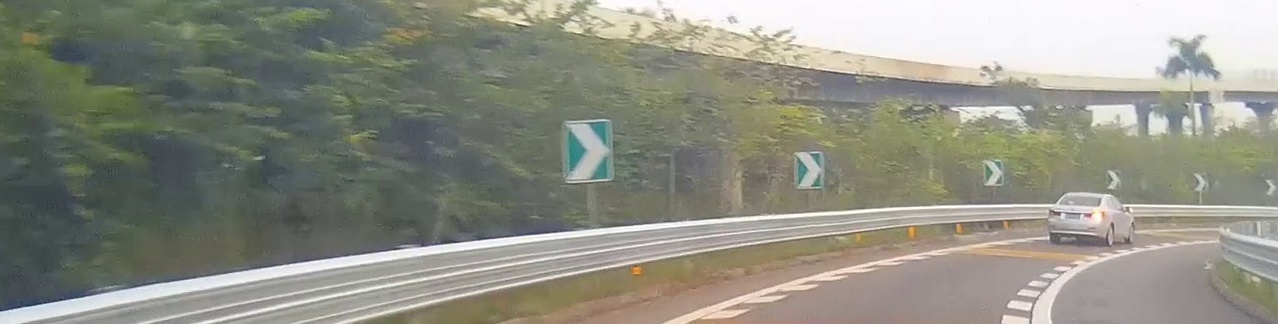L_light: (1049, 209, 1061, 216)
R_light: (1085, 211, 1105, 219)
T_light: (1079, 195, 1089, 198)
day-right: (1047, 193, 1107, 244)
